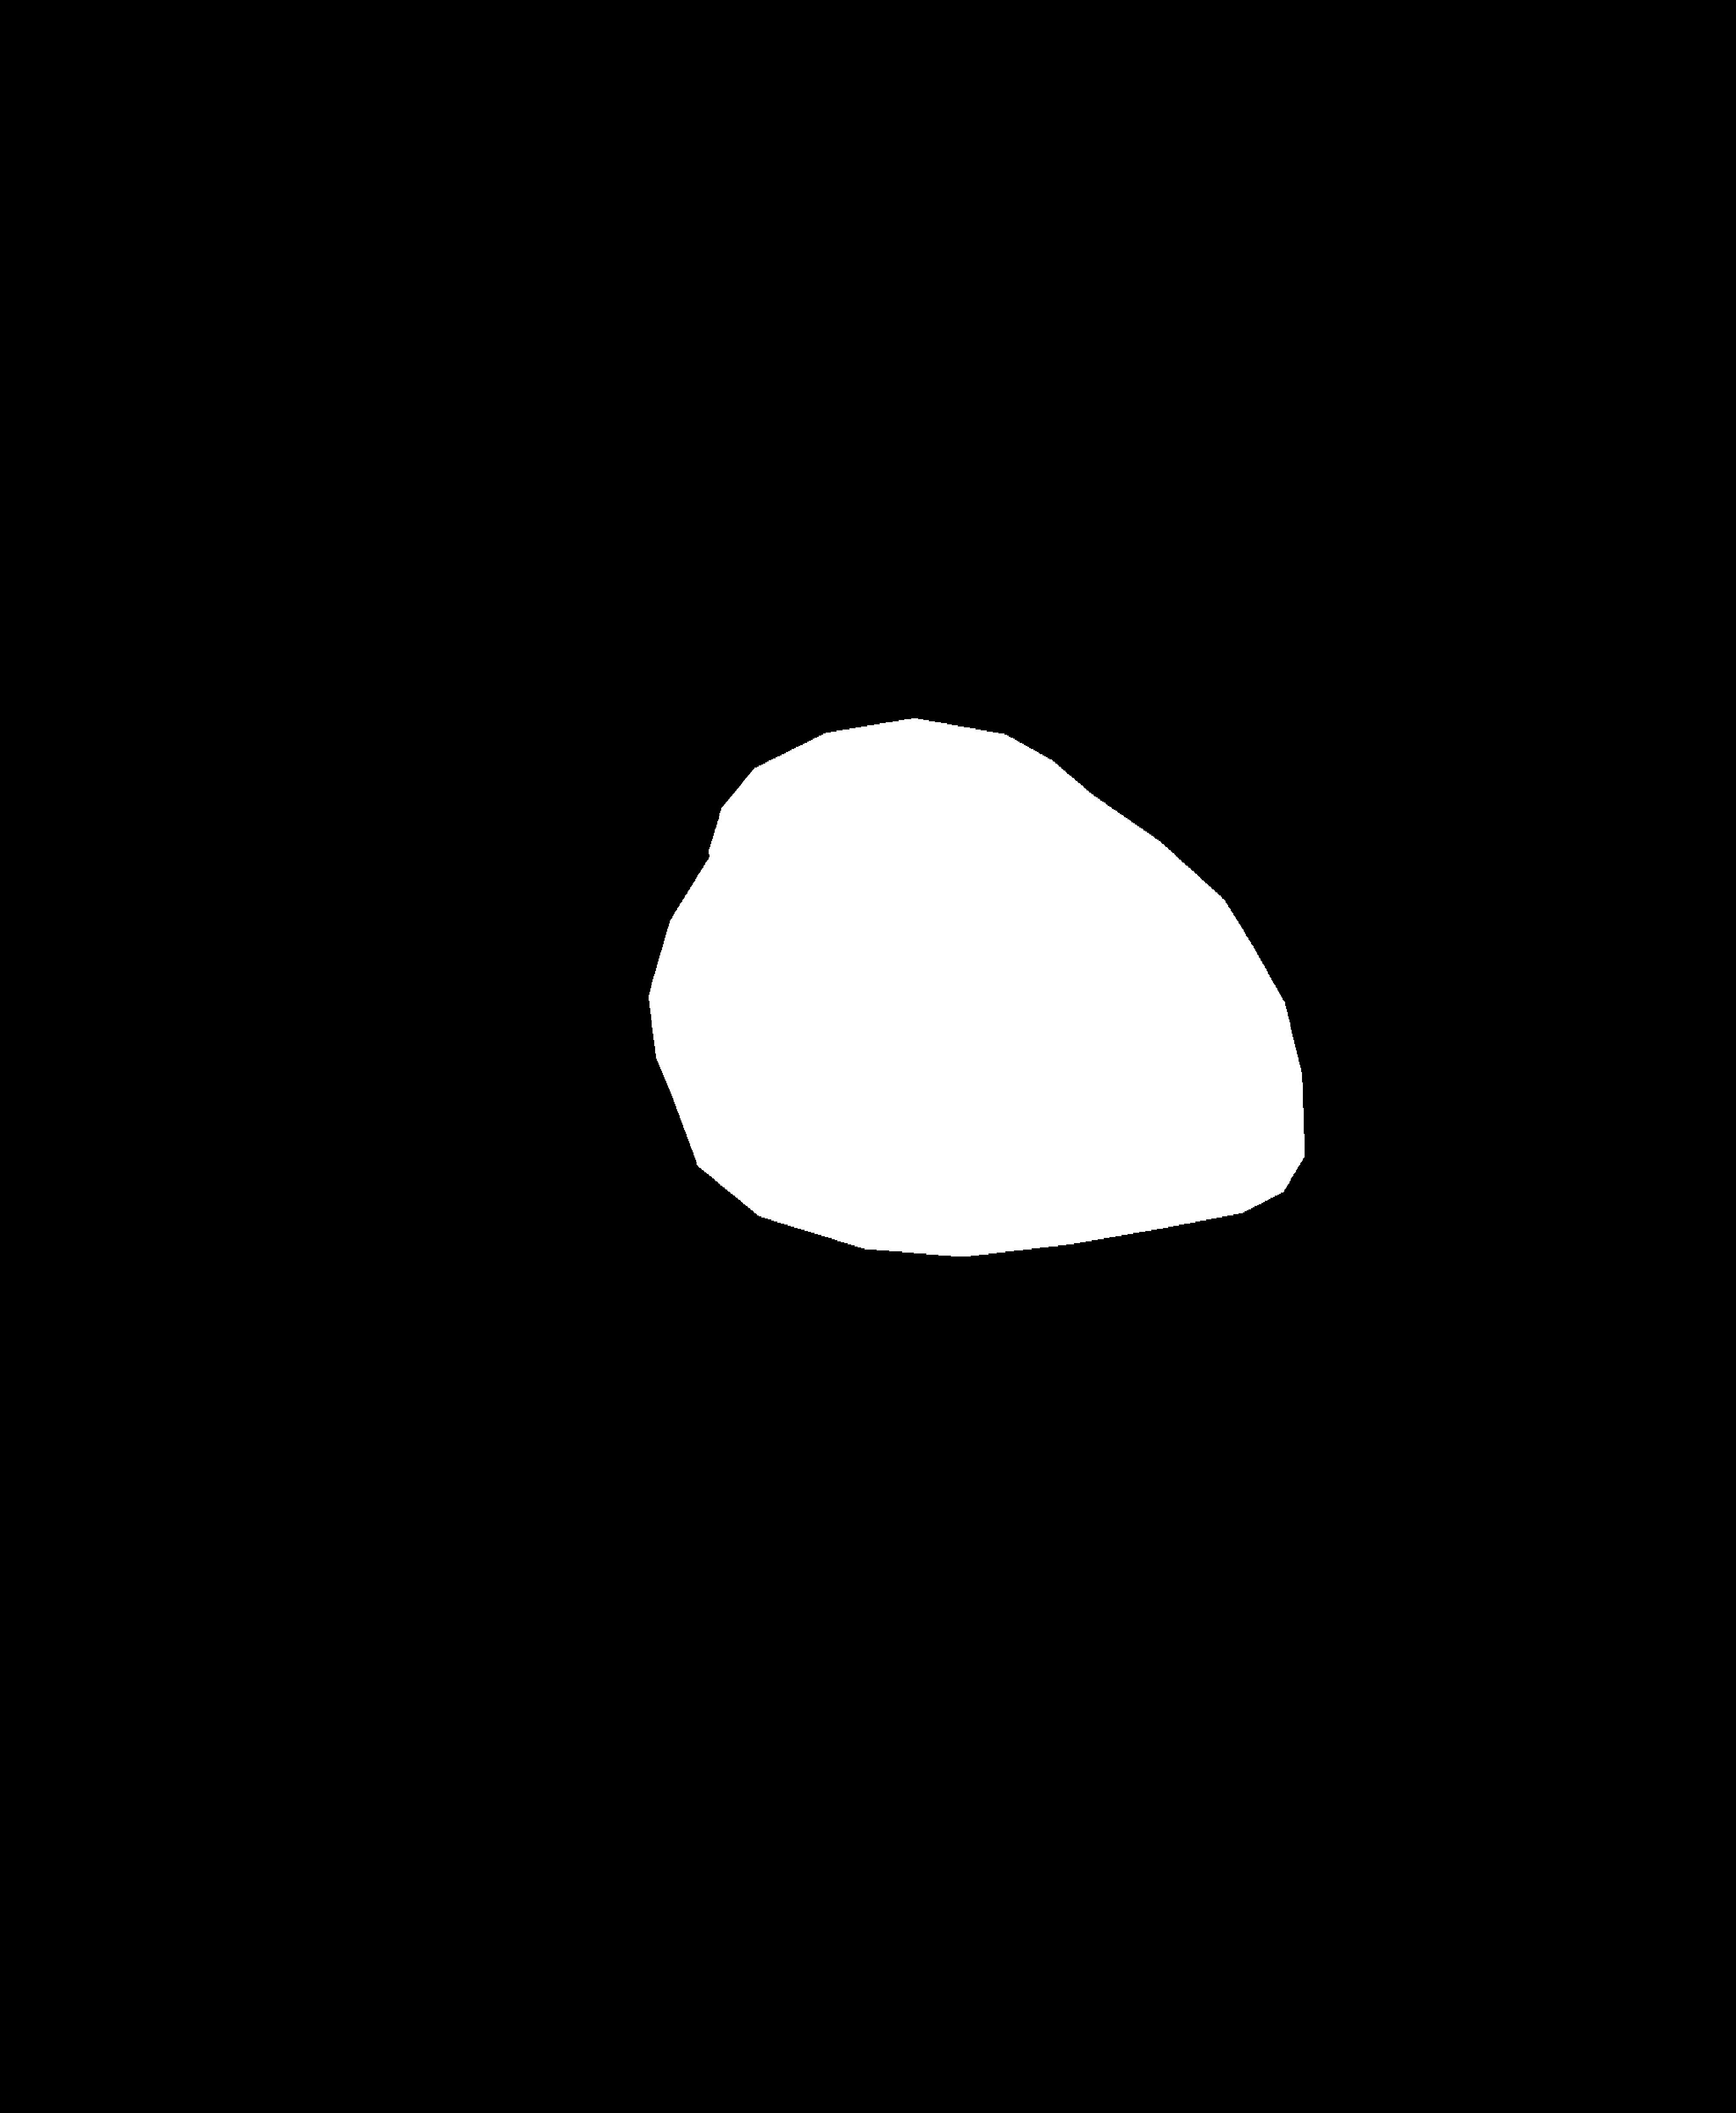heart: (651, 732, 1311, 1236)
left_lung: (112, 158, 792, 1286)
right_lung: (906, 163, 1604, 1144)
